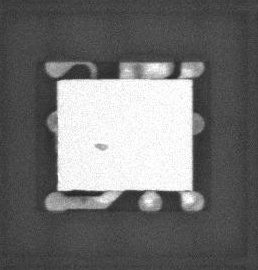DIE_INK: (89, 148, 104, 158)
